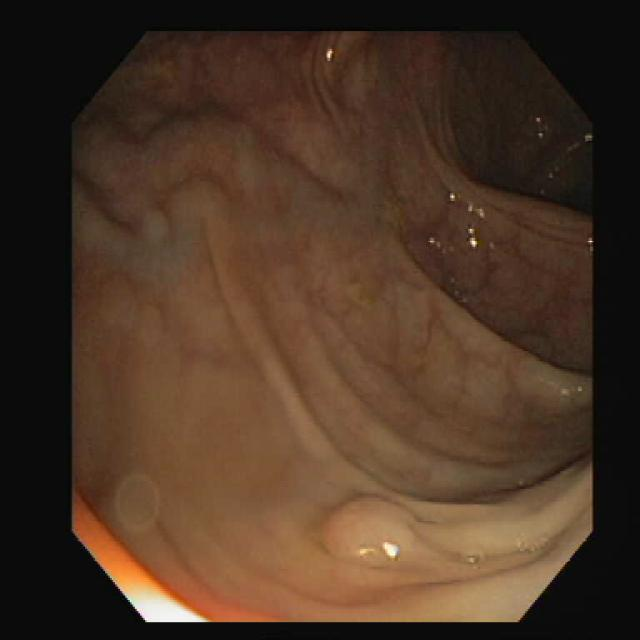tumor: (323, 496, 410, 564), (158, 180, 200, 227)
